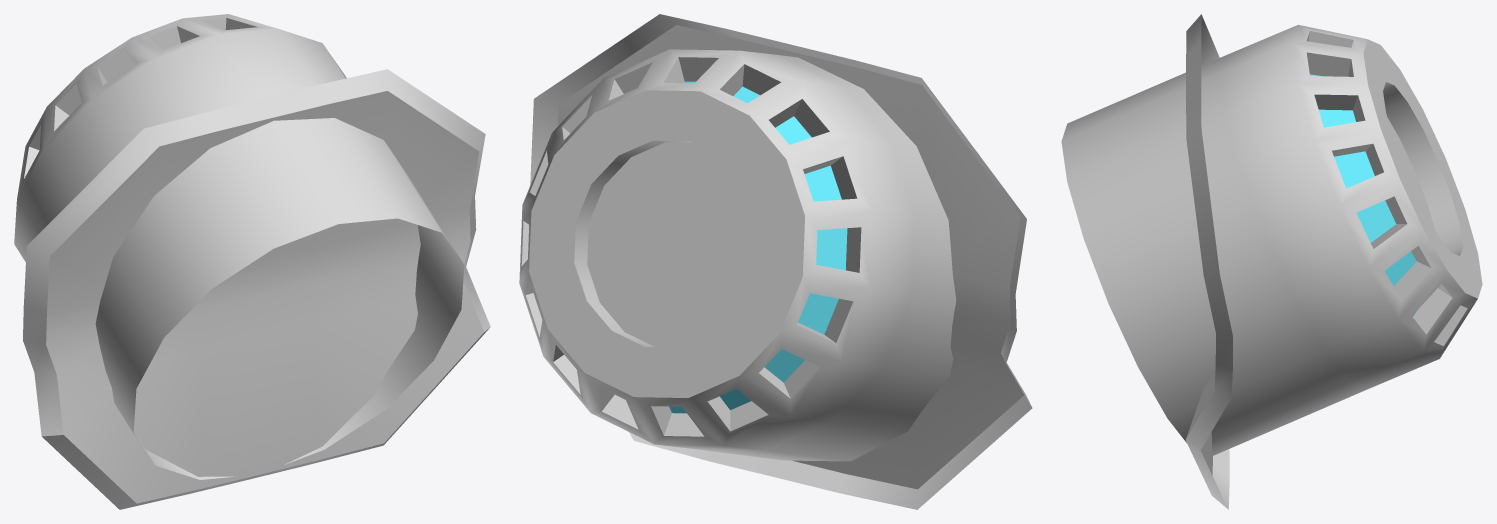
The model's file is Mod_BackPlate_Queen1.FBX.
The picture shows the model from 3 angles, left to right: view 1: azimuth 30°, elevation 25°; view 2: azimuth 150°, elevation 25°; view 3: azimuth 270°, elevation 25°; orthographic projection. The views are drawn at different scales.
Visible parts, largest first — view 1: Mod_BackPlate_Queen1; view 2: Mod_BackPlate_Queen1; view 3: Mod_BackPlate_Queen1.
Part boxes in pixels (x1=…): Mod_BackPlate_Queen1: x1=14, y1=14, x2=490, y2=509; Mod_BackPlate_Queen1: x1=519, y1=14, x2=1032, y2=509; Mod_BackPlate_Queen1: x1=1061, y1=14, x2=1482, y2=509.
Size of the model in its own units: 326 by 286 by 268.
